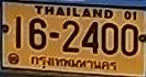letters: (61, 18, 81, 54), (81, 19, 100, 56), (100, 21, 120, 56), (28, 17, 48, 51), (120, 23, 139, 58), (13, 16, 24, 50)
province: (30, 56, 117, 71)
